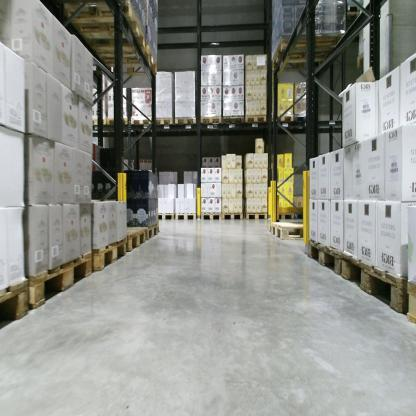pallets: (1, 222, 160, 323), (304, 241, 409, 323), (59, 0, 163, 77), (271, 26, 346, 83), (90, 224, 160, 272), (151, 110, 271, 131), (150, 212, 270, 223), (91, 116, 157, 134), (267, 221, 304, 240), (268, 115, 298, 129)
